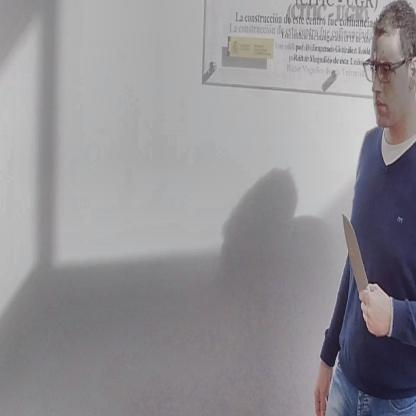knife: (337, 200, 381, 324)
